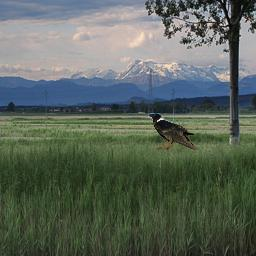Crow: (148, 112, 197, 150)
